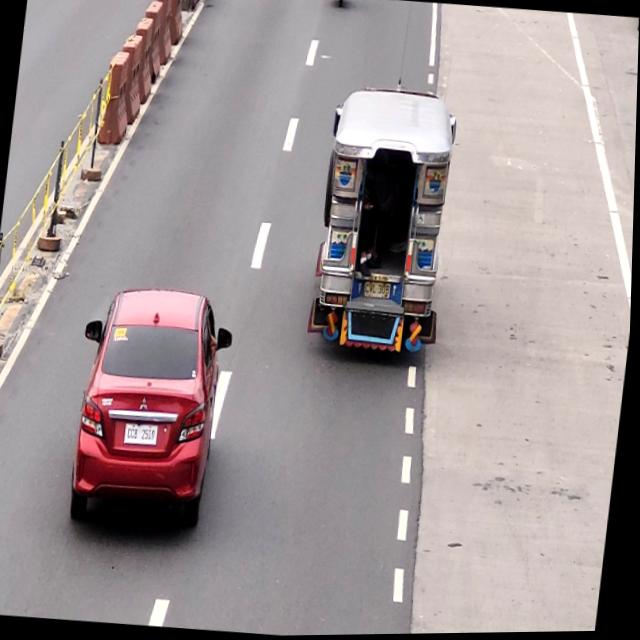Car: (72, 283, 231, 529)
Jeep: (308, 86, 457, 358)
License-Plate: (123, 419, 163, 450), (364, 282, 394, 302)
